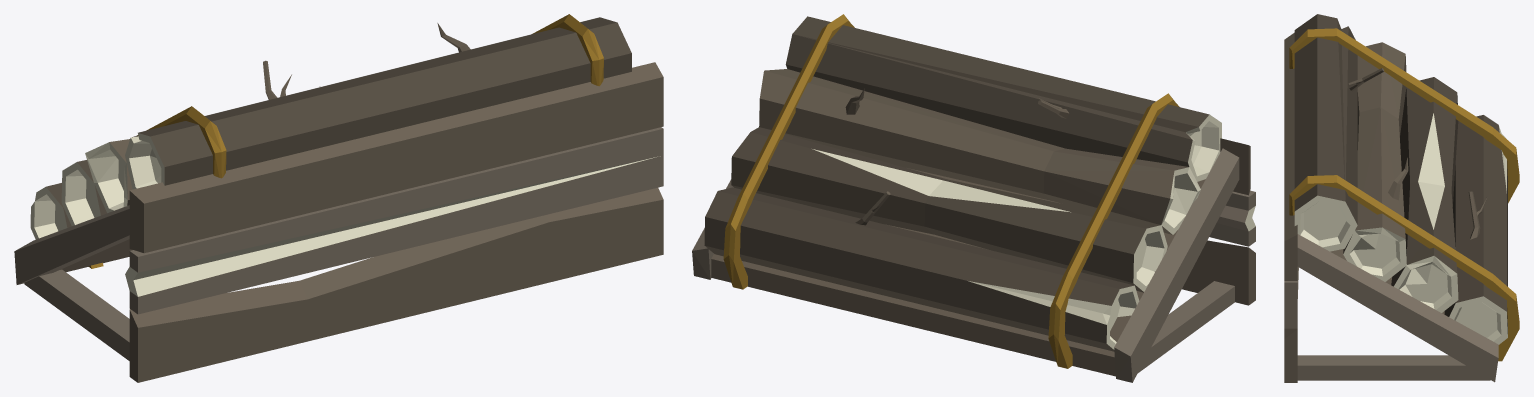
The model's file is _FIREWOODS.fbx.
The picture shows the model from 3 angles, left to right: view 1: azimuth 30°, elevation 25°; view 2: azimuth 150°, elevation 25°; view 3: azimuth 270°, elevation 25°; orthographic projection. The views are drawn at different scales.
Visible parts, largest first — view 1: FIREWOODS; view 2: FIREWOODS; view 3: FIREWOODS.
Boxes of the visible parts, bbox=[...] form: FIREWOODS: bbox=[14, 14, 663, 382]; FIREWOODS: bbox=[692, 14, 1255, 382]; FIREWOODS: bbox=[1284, 14, 1519, 382].
Size of the model in its own units: 426 by 181 by 207.
